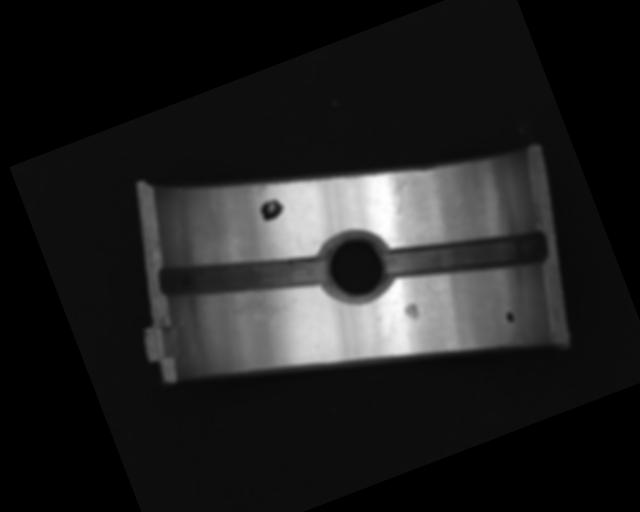blot: (256, 196, 286, 224), (503, 310, 516, 324)
bruise: (402, 301, 422, 324)
gap: (155, 215, 331, 338), (382, 202, 553, 314)
hole: (310, 223, 400, 314)
nick: (382, 171, 416, 216)
scratch: (204, 281, 286, 347)
